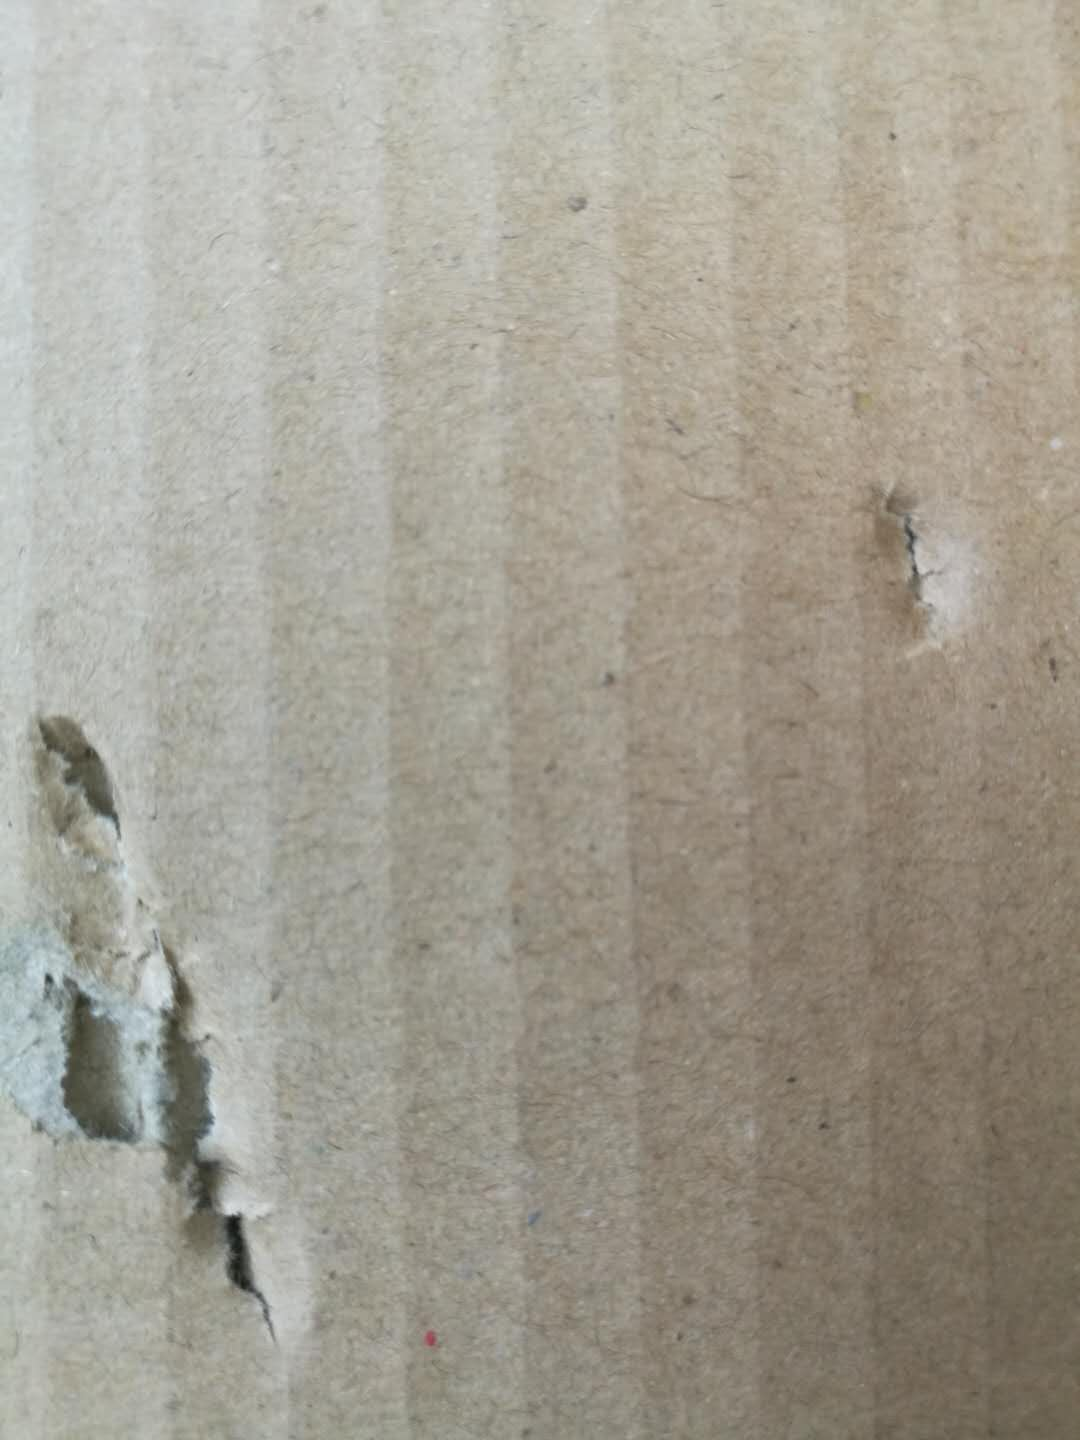defect: (2, 650, 331, 1367), (832, 442, 1023, 691)
